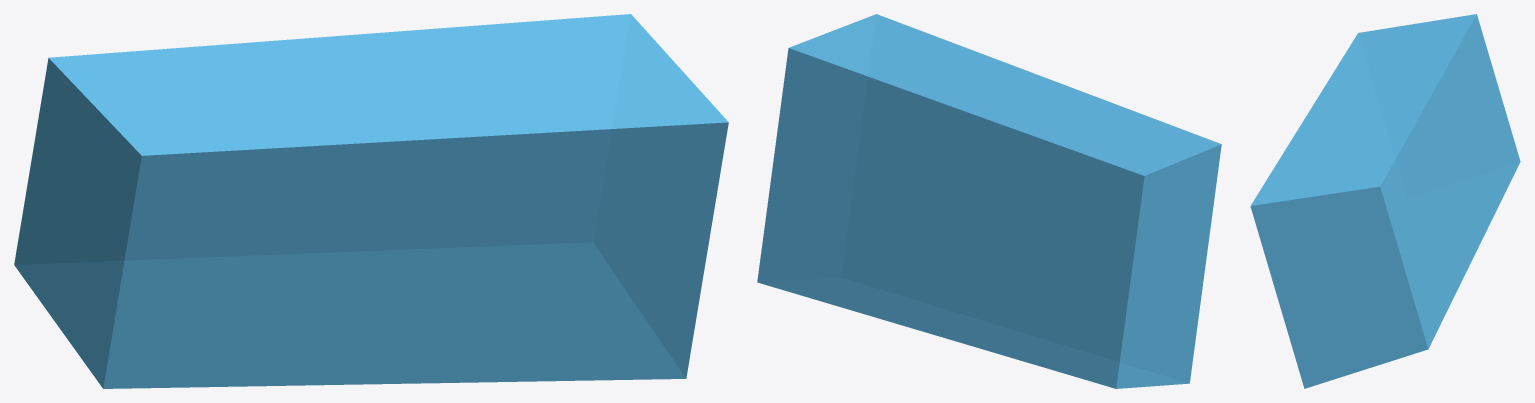
File: Event_420094457_HErechit_38.fbx
3 renders of one model, left to right at view 1: azimuth 30°, elevation 25°; view 2: azimuth 150°, elevation 25°; view 3: azimuth 270°, elevation 25°, orthographic. The views are drawn at different scales.
Parts seen in each view (by area): view 1: Model; view 2: Model; view 3: Model.
Boxes of the visible parts, x1,y1,x2,y2 form: Model: (14, 14, 728, 388); Model: (757, 14, 1221, 388); Model: (1250, 14, 1520, 388).
Size of the model in its own units: 1.03 by 0.6695 by 0.7482.
